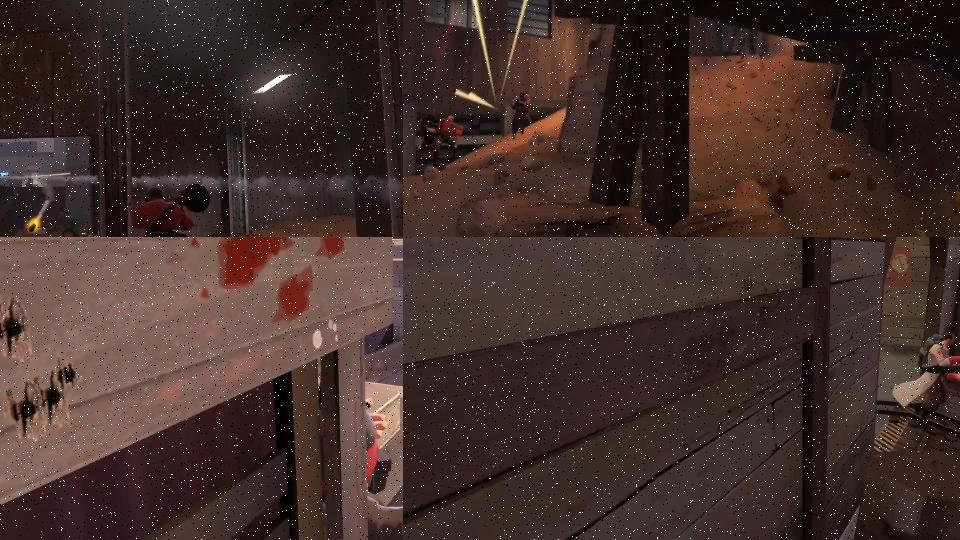Enemy: (889, 326, 960, 425), (123, 180, 215, 237), (419, 114, 441, 166), (439, 116, 464, 160), (510, 91, 531, 141), (56, 206, 80, 237)
